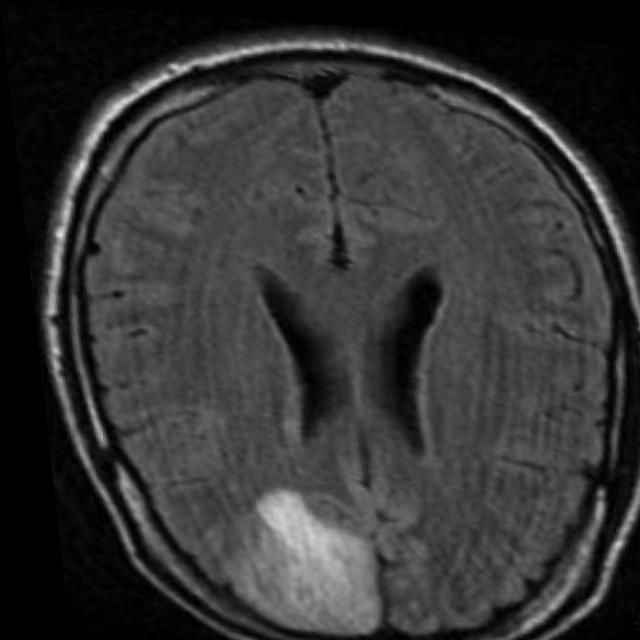Tumor: (211, 482, 371, 634)
